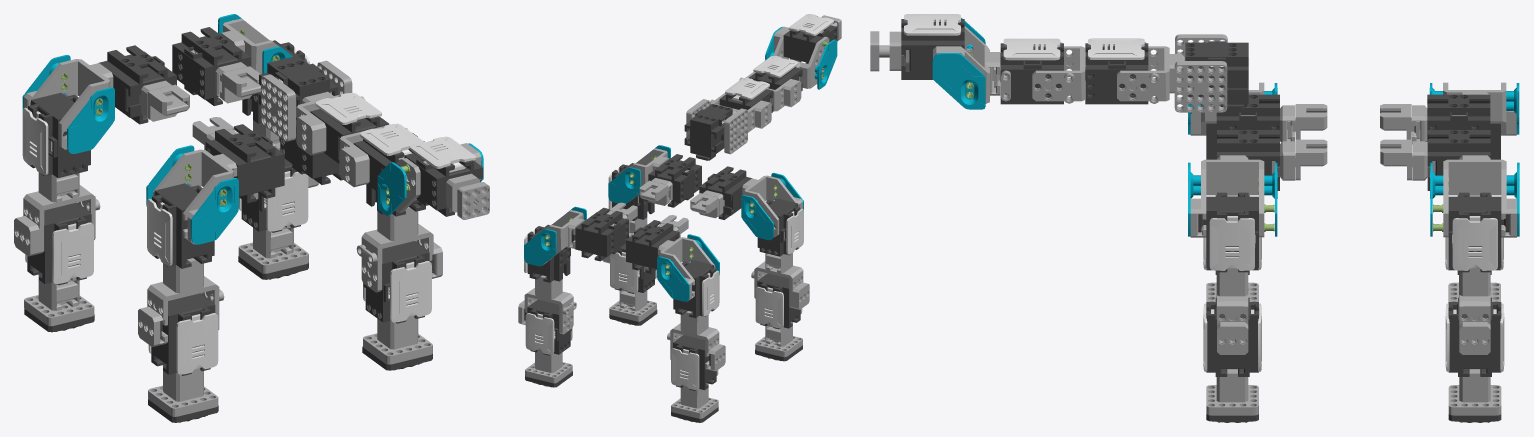
File: daxiang_G.fbx
The picture shows the model from 3 angles, left to right: view 1: azimuth 30°, elevation 25°; view 2: azimuth 150°, elevation 25°; view 3: azimuth 270°, elevation 25°; orthographic projection. The views are drawn at different scales.
Parts seen in each view (by area): view 1: daxiang_youhuo, daxiang_youqian, daxiang_bizi, daxiang_zuohuo, daxiang_zuoqian; view 2: daxiang_youqian, daxiang_youhuo, daxiang_bizi, daxiang_zuohuo, daxiang_zuoqian; view 3: daxiang_bizi, daxiang_zuohuo, daxiang_zuoqian, daxiang_youhuo, daxiang_youqian.
Boxes of the visible parts, <box> form: daxiang_youhuo: <box>14,45,189,332</box>; daxiang_youqian: <box>138,117,284,422</box>; daxiang_bizi: <box>259,55,489,219</box>; daxiang_zuohuo: <box>172,14,318,279</box>; daxiang_zuoqian: <box>279,133,442,370</box>; daxiang_youqian: <box>690,166,809,361</box>; daxiang_youhuo: <box>626,215,725,422</box>; daxiang_bizi: <box>684,14,841,160</box>; daxiang_zuohuo: <box>518,202,637,387</box>; daxiang_zuoqian: <box>602,145,701,325</box>; daxiang_bizi: <box>870,14,1248,112</box>; daxiang_zuohuo: <box>1380,130,1519,422</box>; daxiang_zuoqian: <box>1188,130,1327,422</box>; daxiang_youhuo: <box>1380,82,1519,303</box>; daxiang_youqian: <box>1188,82,1327,301</box>.
Bounding box in the file's own units: 186 × 217 × 370.
